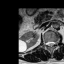CCS_normal: (49, 39, 51, 49)
LFS_normal: (54, 39, 56, 46)
LLS_normal: (51, 39, 54, 47)
RFS_normal: (44, 39, 47, 47)
RLS_normal: (47, 38, 49, 47)
